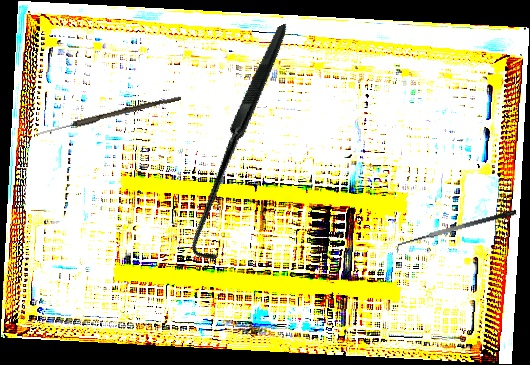Hook Surgical: (118, 22, 369, 267)
Spatula Surgical: (393, 209, 520, 255)
Surgical Spoon: (36, 92, 182, 139)
